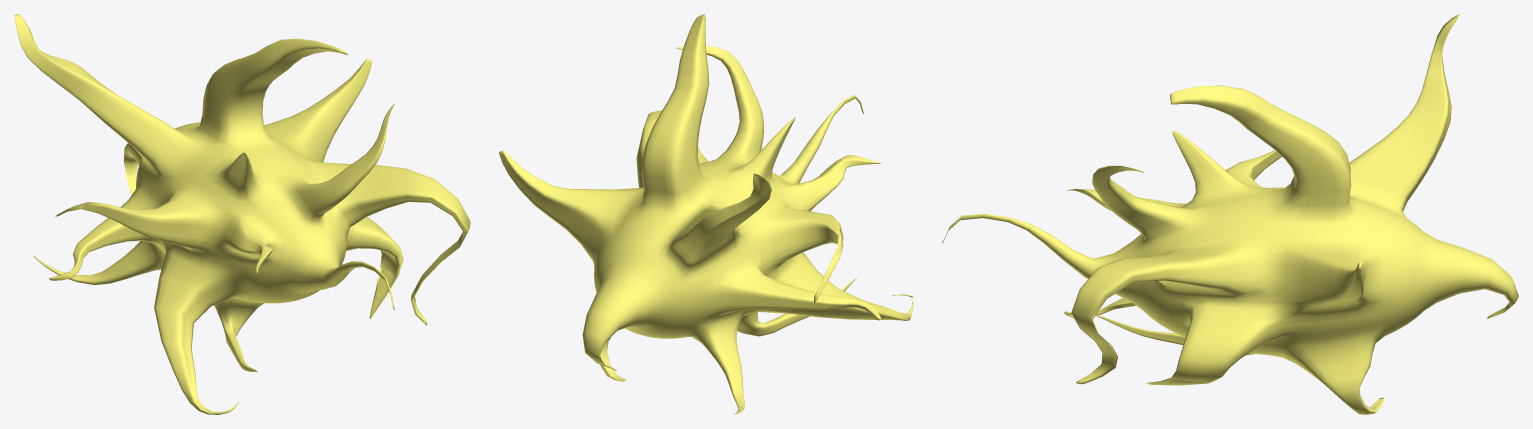
File: blood_platelet.gltf
3 views of the same model, side by side, from view 1: azimuth 30°, elevation 25°; view 2: azimuth 150°, elevation 25°; view 3: azimuth 270°, elevation 25° (orthographic). The views are drawn at different scales.
Visible parts, largest first — view 1: Sphere002; view 2: Sphere002; view 3: Sphere002.
Part boxes in pixels (x1,y1,x2,y2): Sphere002: (14,14,470,414); Sphere002: (499,14,913,414); Sphere002: (942,14,1518,414).
Size of the model in its own units: 307 by 250 by 405.
